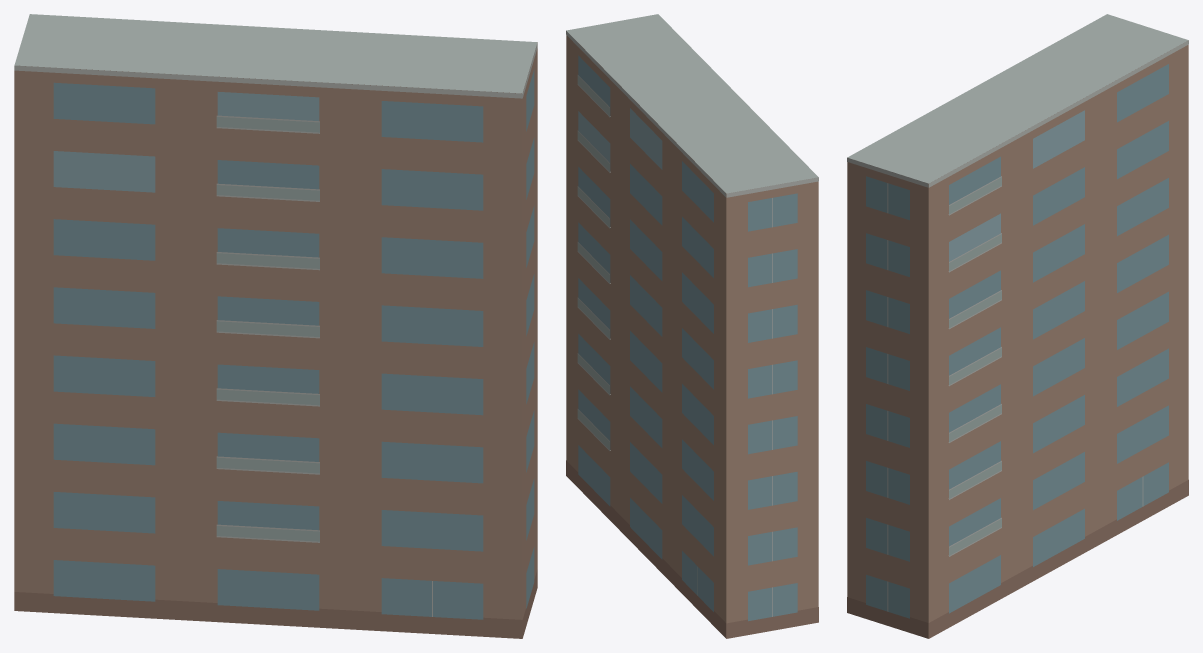
Rendered from survey-upis-33022894.glb.
3 renders of one model, left to right at view 1: azimuth 30°, elevation 25°; view 2: azimuth 150°, elevation 25°; view 3: azimuth 270°, elevation 25°, orthographic. The views are drawn at different scales.
Visible parts, largest first — view 1: survey-upis-33022894.tmp; view 2: survey-upis-33022894.tmp; view 3: survey-upis-33022894.tmp.
Boxes of the visible parts, bbox=[...] form: survey-upis-33022894.tmp: bbox=[14, 14, 537, 638]; survey-upis-33022894.tmp: bbox=[566, 14, 818, 638]; survey-upis-33022894.tmp: bbox=[847, 14, 1188, 638].
Size of the model in its own units: 20.86 by 26.1 by 17.76.
